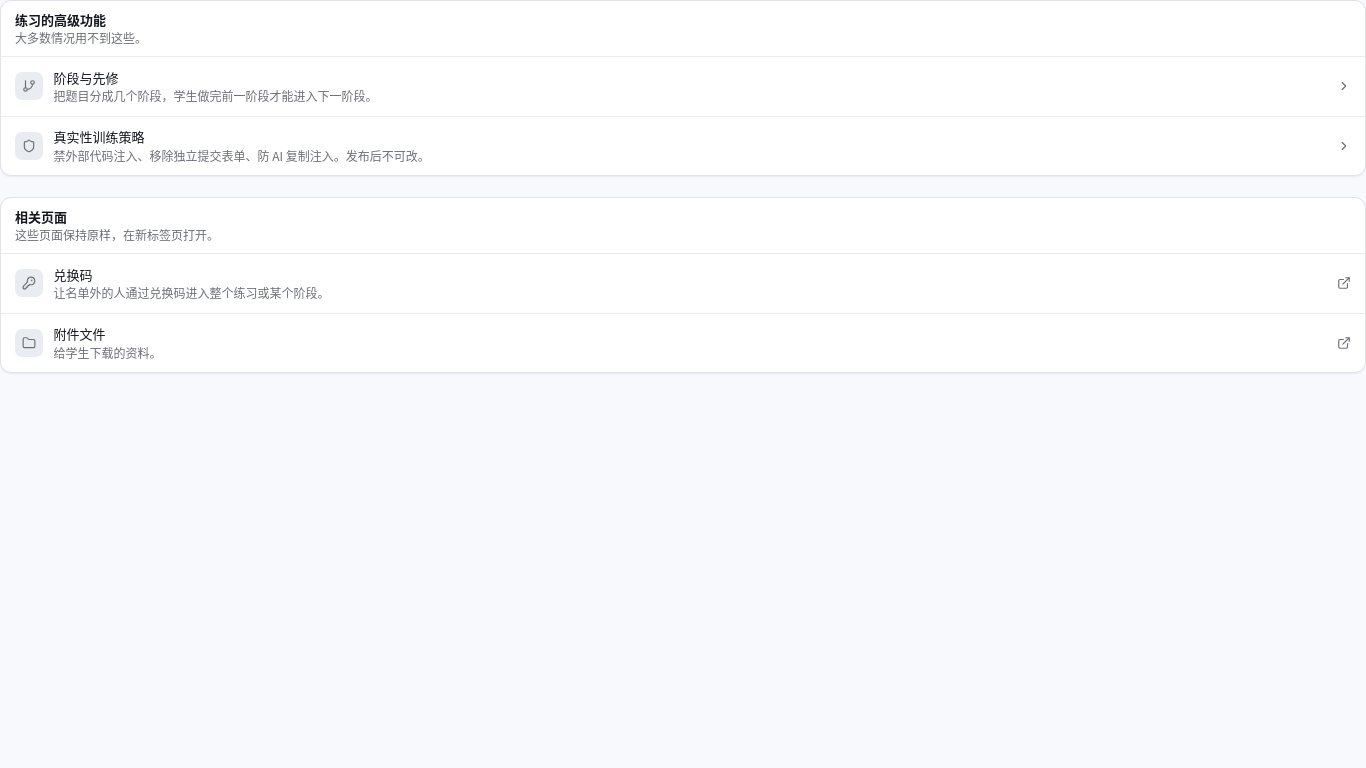
Scenario: advanced tab › shows practice stage and integrity sections and keeps redemption with the files link
Expected: the heading "练习的高级功能" is shown, [15, 10, 106, 29]
Click the heading "阶段与先修 把题目分成几个阶段，学生做完前一阶段才能进入下一阶段。" at (86, 77), box [1, 57, 1365, 116]
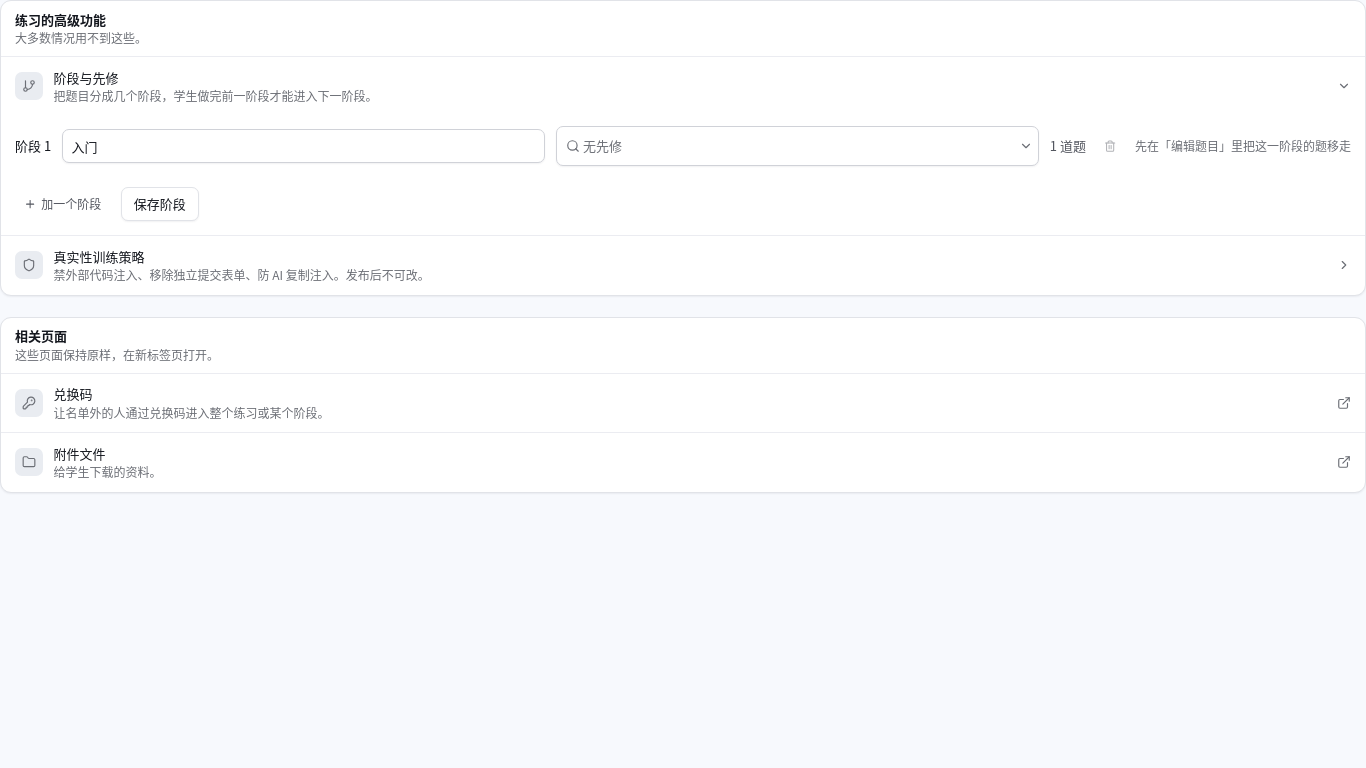
Expected: the field with placeholder "阶段名称" is shown, [62, 129, 545, 163]
Expected: the button "加一个阶段" is shown, [15, 190, 110, 218]
Click the heading "真实性训练策略 禁外部代码注入、移除独立提交表单、防 AI 复制注入。发布后不可改。" at (99, 256), box [1, 236, 1365, 294]
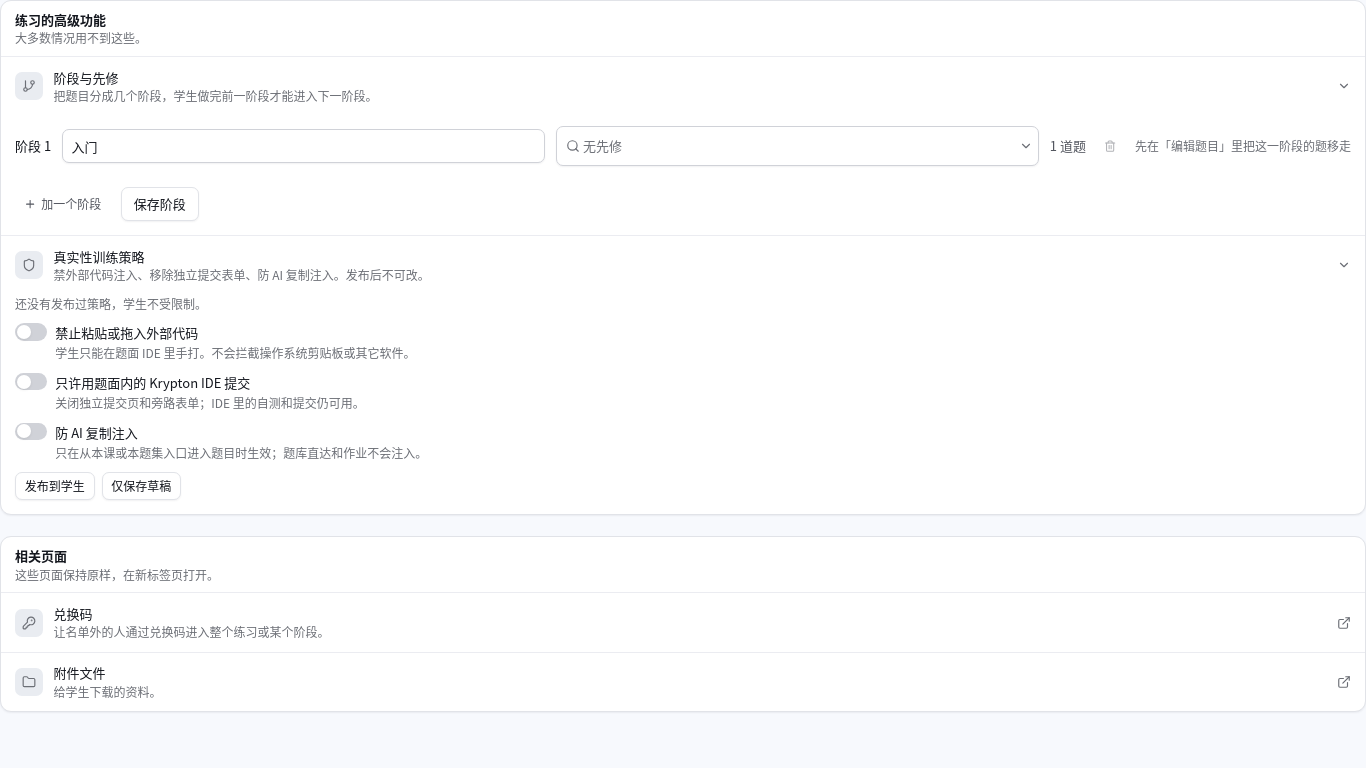
Expected: the text "这些页面保持原样，在新标签页打开。" is shown, [15, 566, 219, 582]
Expected: the text "禁止粘贴或拖入外部代码" is shown, [55, 323, 198, 342]
